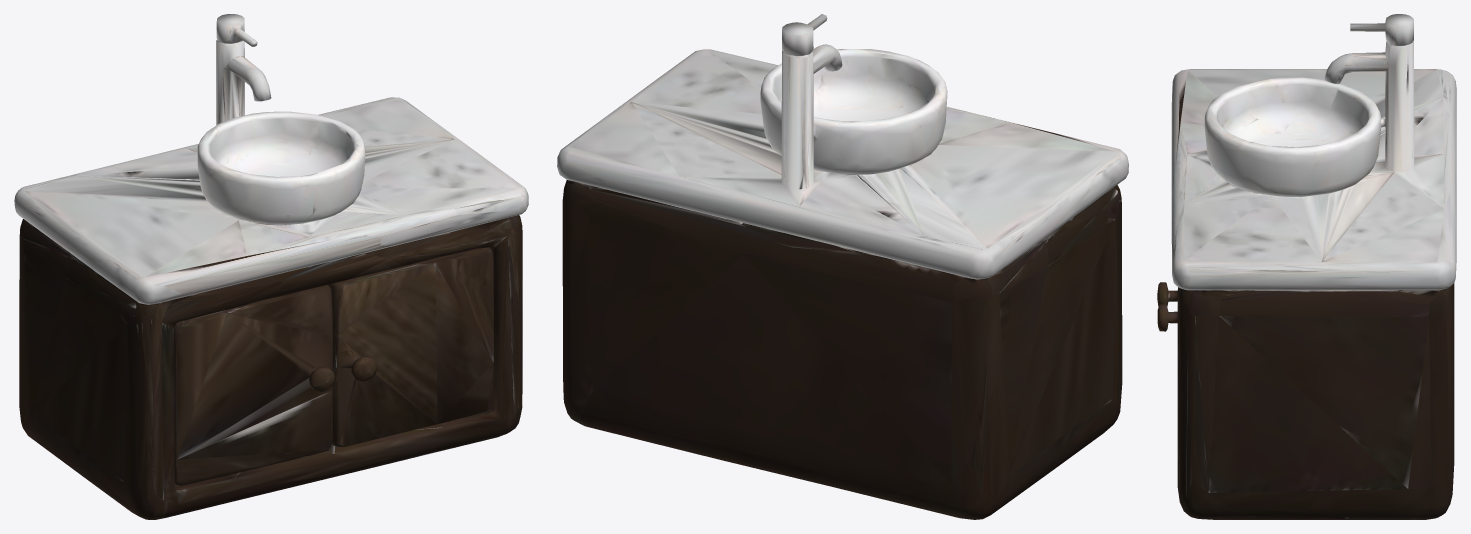
File: sink.glb
3 views of the same model, side by side, from view 1: azimuth 30°, elevation 25°; view 2: azimuth 150°, elevation 25°; view 3: azimuth 270°, elevation 25° (orthographic). The views are drawn at different scales.
Visible parts, largest first — view 1: Mesh_0; view 2: Mesh_0; view 3: Mesh_0.
Boxes of the visible parts, <box> form: Mesh_0: <box>14,14,528,519</box>; Mesh_0: <box>557,14,1128,519</box>; Mesh_0: <box>1157,14,1456,519</box>.
Size of the model in its own units: 1 by 0.95 by 0.63.
Materials: 1 (1 with a texture image).
